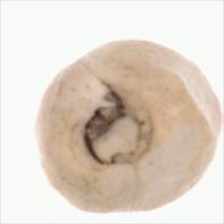L3: (80, 85, 152, 168)
L4: (38, 40, 221, 214)
